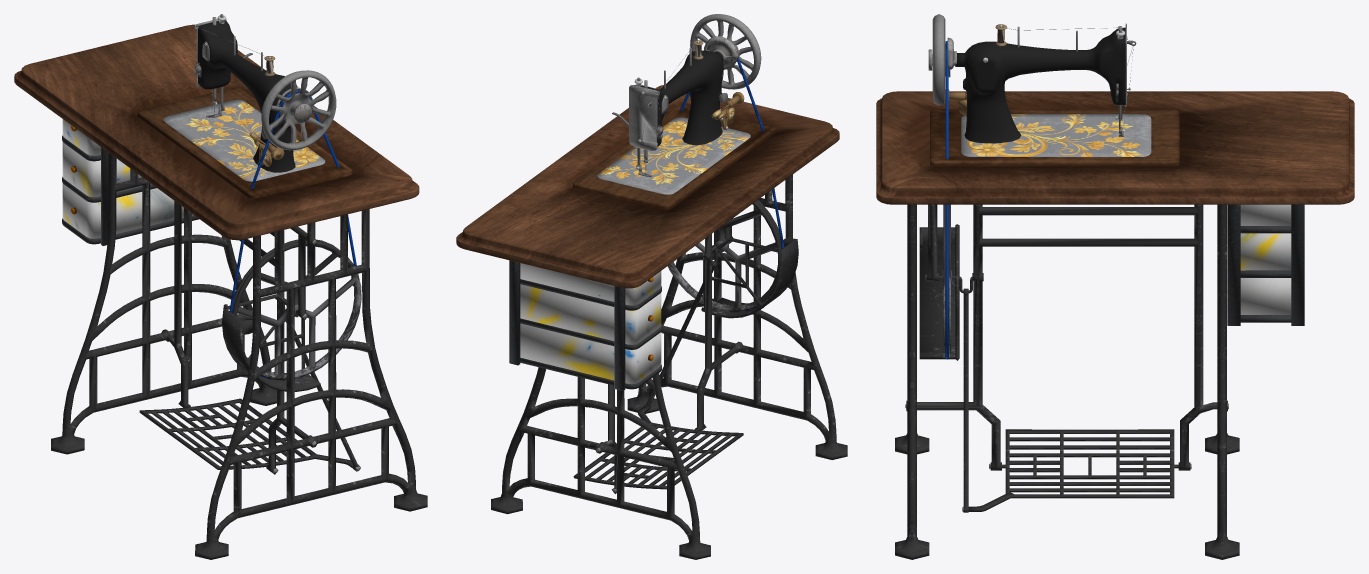
Rendered from maquina de coser 02 GLB.glb.
The picture shows the model from 3 angles, left to right: view 1: azimuth 30°, elevation 25°; view 2: azimuth 150°, elevation 25°; view 3: azimuth 270°, elevation 25°; orthographic projection. The views are drawn at different scales.
Parts seen in each view (by area): view 1: Object_3, Object_2; view 2: Object_3, Object_2; view 3: Object_3, Object_2.
Part boxes in pixels (x1=…): Object_3: x1=14, y1=24, x2=427, y2=559; Object_2: x1=137, y1=14, x2=352, y2=198; Object_3: x1=456, y1=45, x2=847, y2=559; Object_2: x1=573, y1=14, x2=776, y2=210; Object_3: x1=876, y1=41, x2=1354, y2=559; Object_2: x1=928, y1=14, x2=1179, y2=166.
Size of the model in its own units: 27.45 by 50.45 by 45.52.
Materials: 2 (2 with a texture image).
